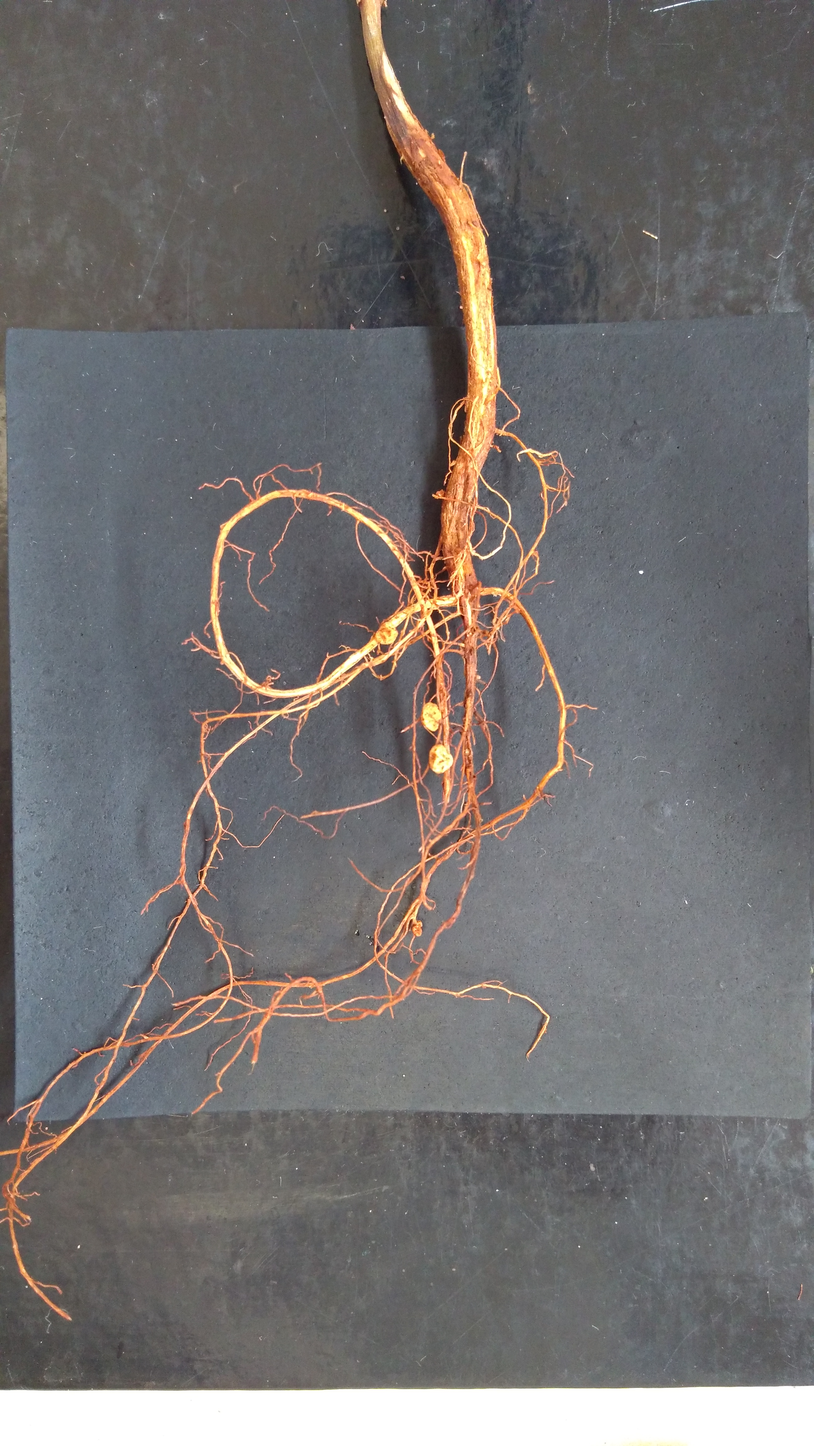nodule: (427, 742, 455, 776), (421, 700, 443, 733), (373, 622, 399, 646), (411, 919, 425, 937), (435, 489, 446, 499)
